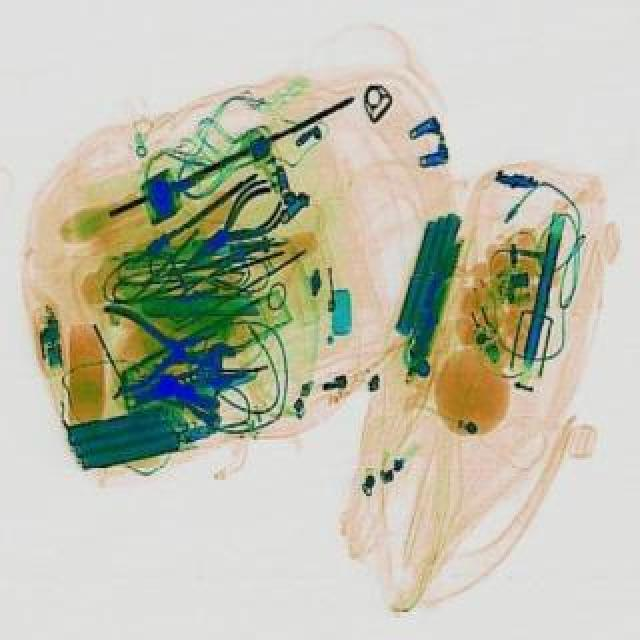scissors: (116, 342, 252, 422)
wrench: (170, 176, 302, 288), (106, 302, 226, 394)
